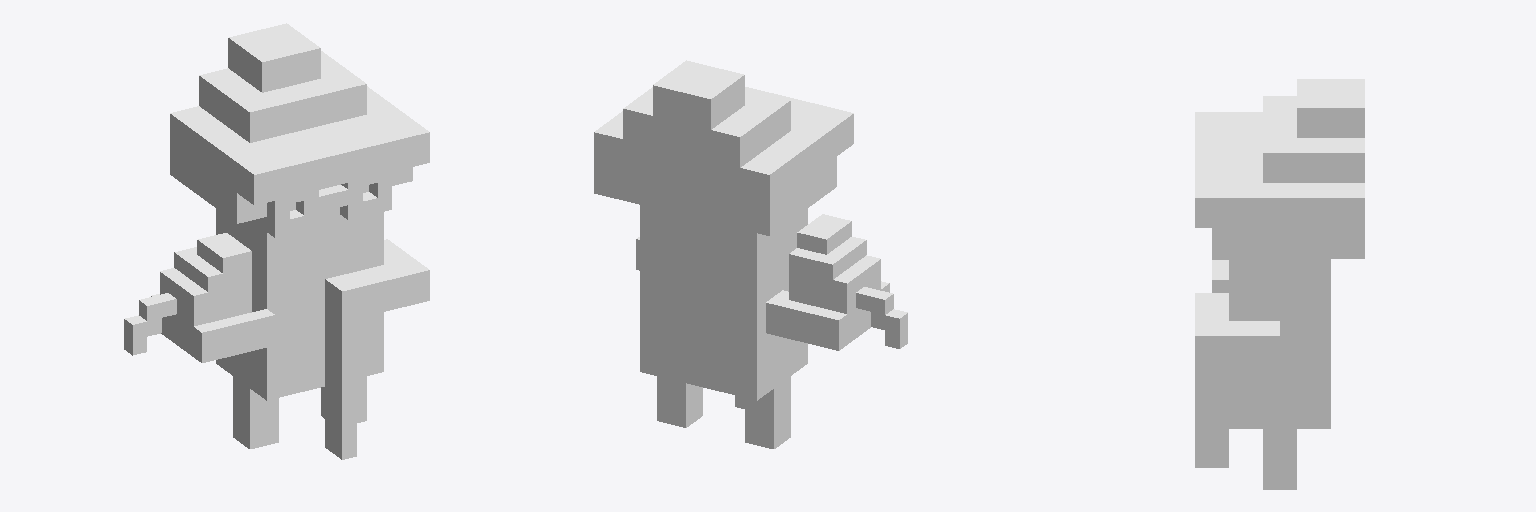
File: KatzenOmi.obj
3 renders of one model, left to right at view 1: azimuth 30°, elevation 25°; view 2: azimuth 150°, elevation 25°; view 3: azimuth 270°, elevation 25°, orthographic.
Bounding box in the file's own units: 18 × 24 × 10.